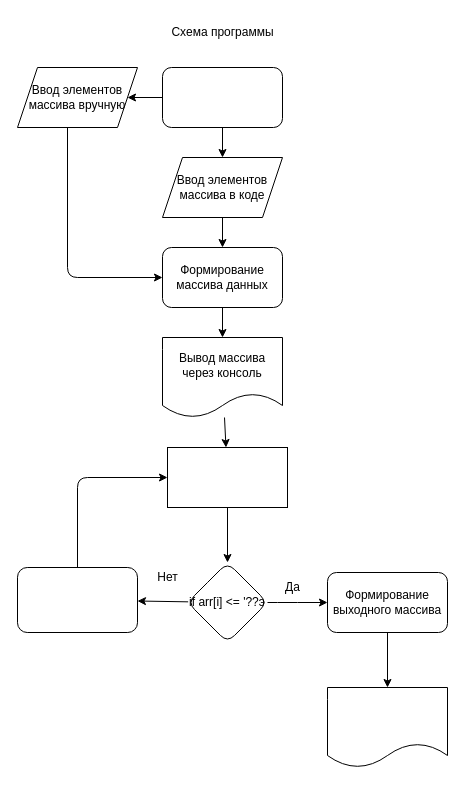
Some shapes in this 465 by 785 pixel diagram are drawn without their labels. Here are the shapes that lost their labels. From the top down, the centre of each, then its label:
At point 222,97: "Выбор метода ввода данных в программу".
At point 227,477: "for i = 0; i<arr.lenght".
At point 387,727: "Вывод выходного массива в консоль".
